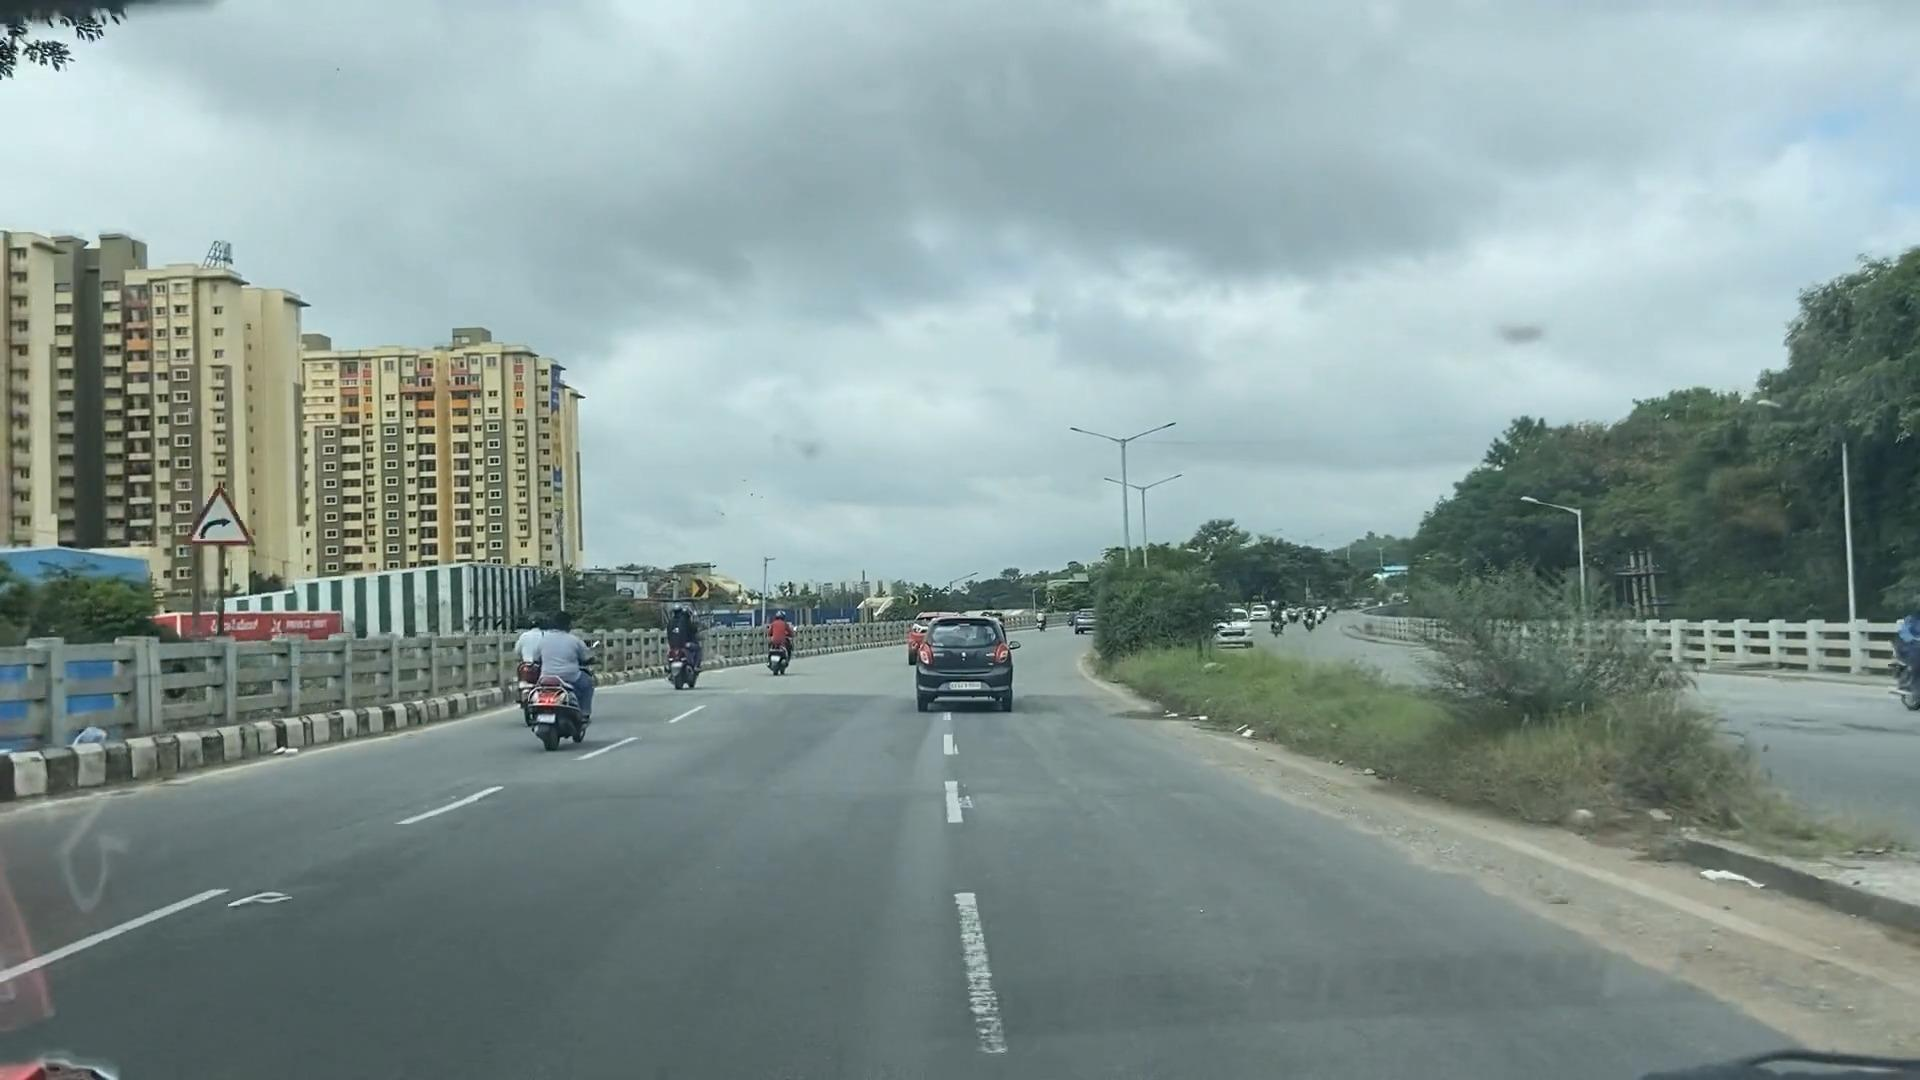LMV: (918, 608, 1000, 699), (536, 620, 590, 731), (658, 586, 705, 691)
RoadDamages: (1114, 698, 1172, 729), (768, 608, 787, 681)
